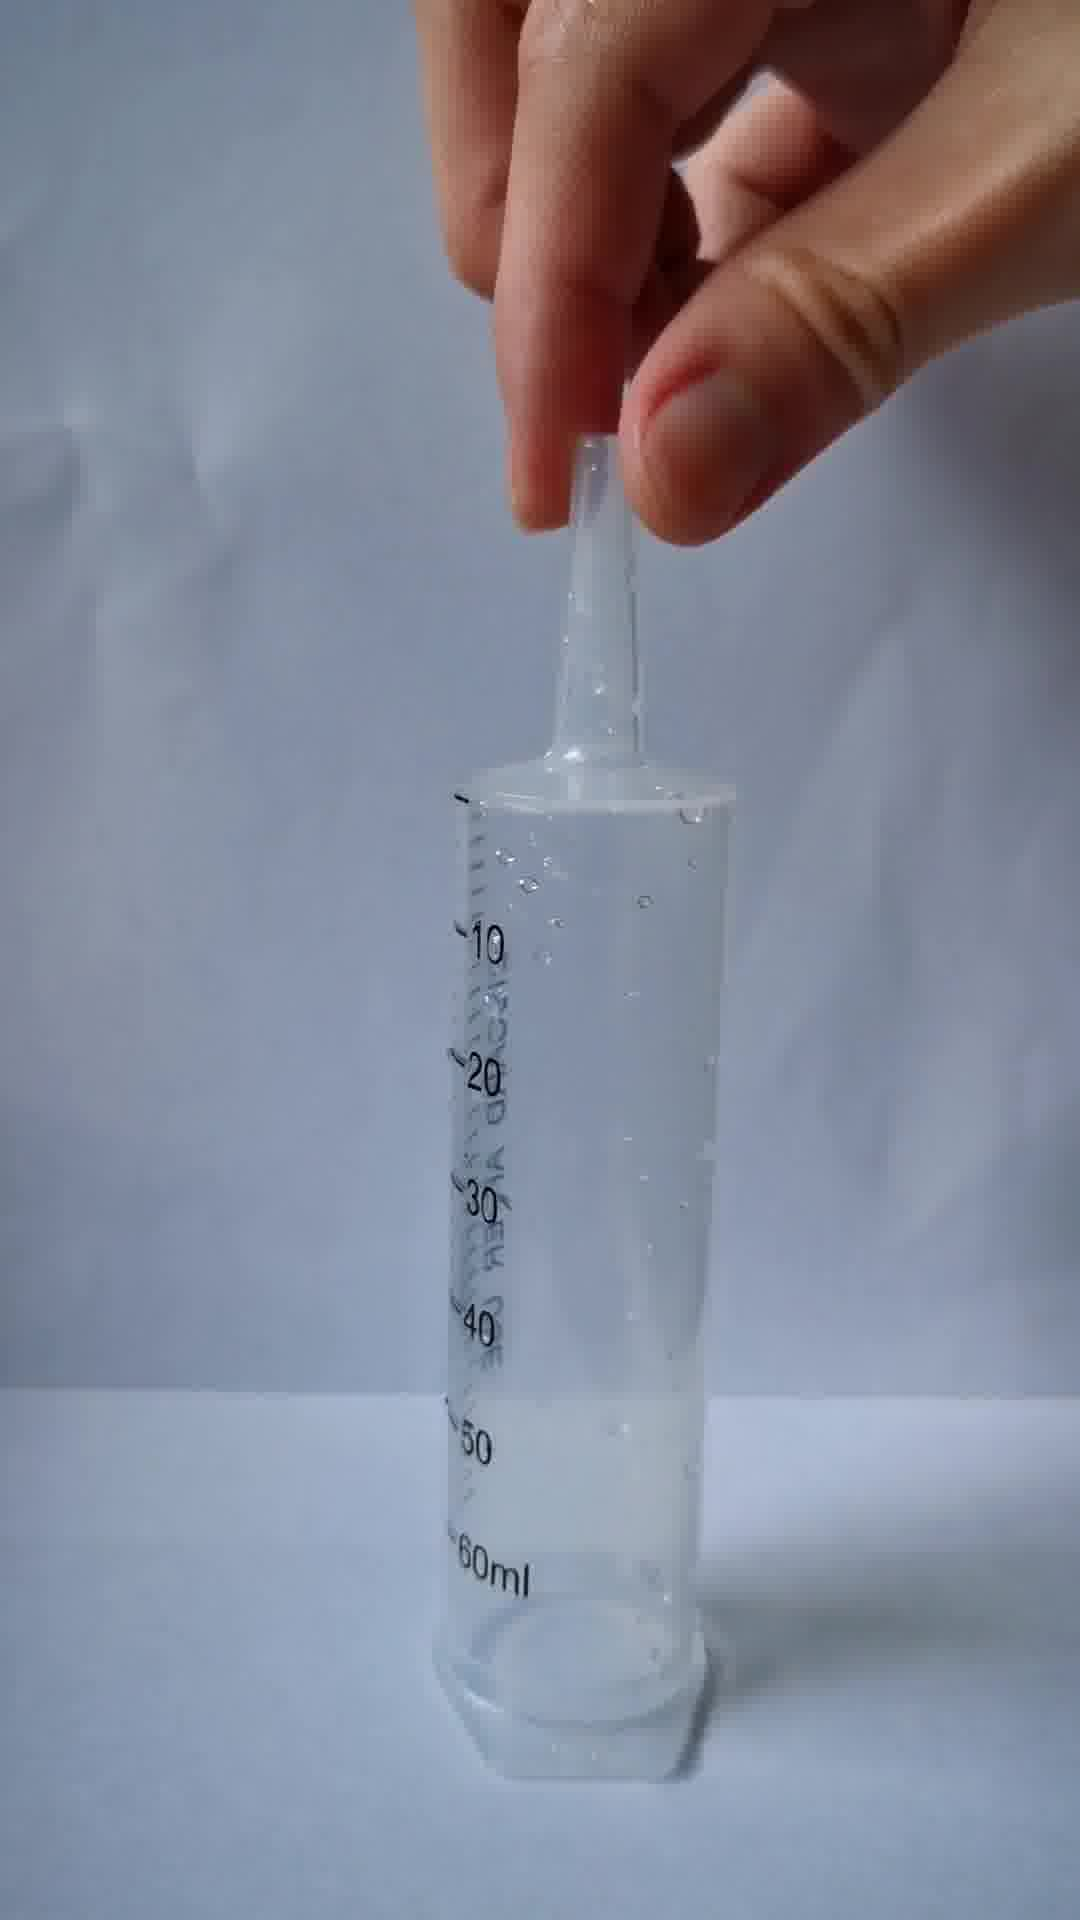syringe: (433, 436, 744, 1796)
